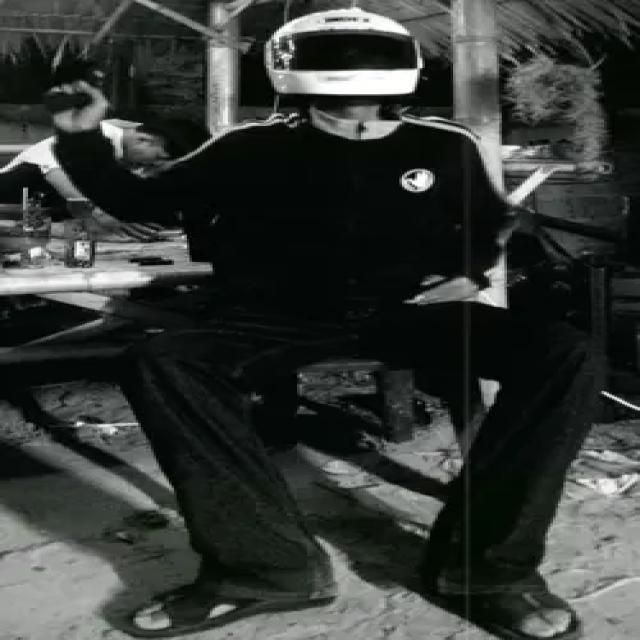helmet: (256, 6, 454, 105)
